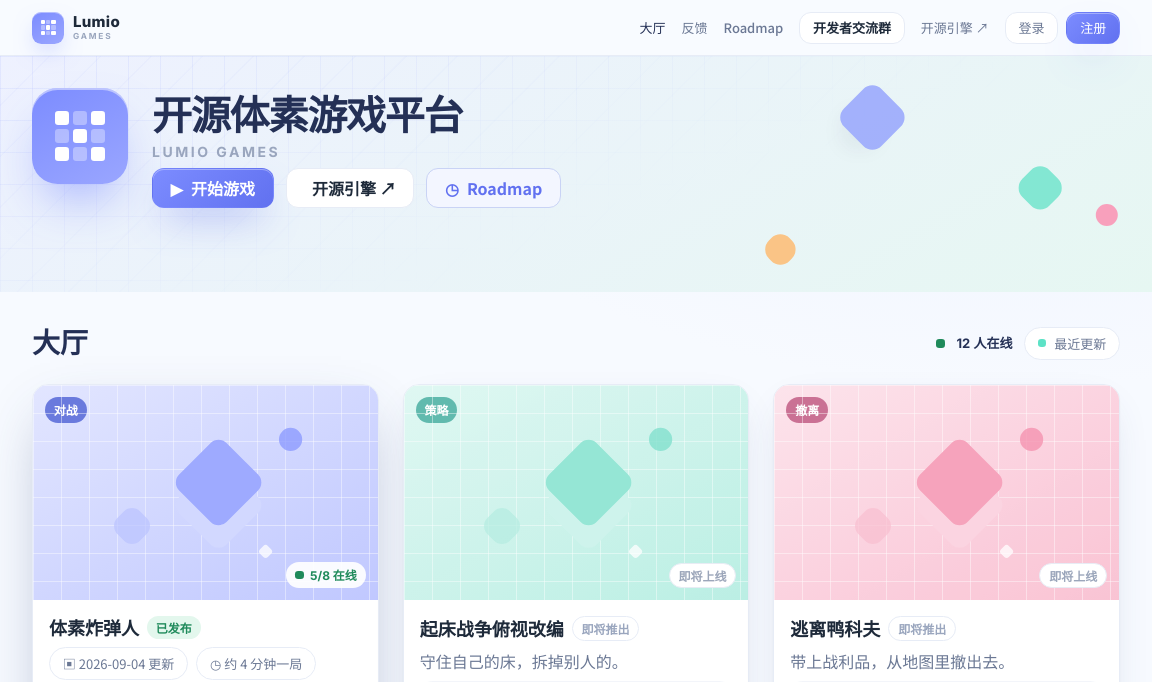
opens and closes the developer community dialog
The image size is (1152, 682).
Click the button "开发者交流群" at (852, 28), box [799,12,905,44]
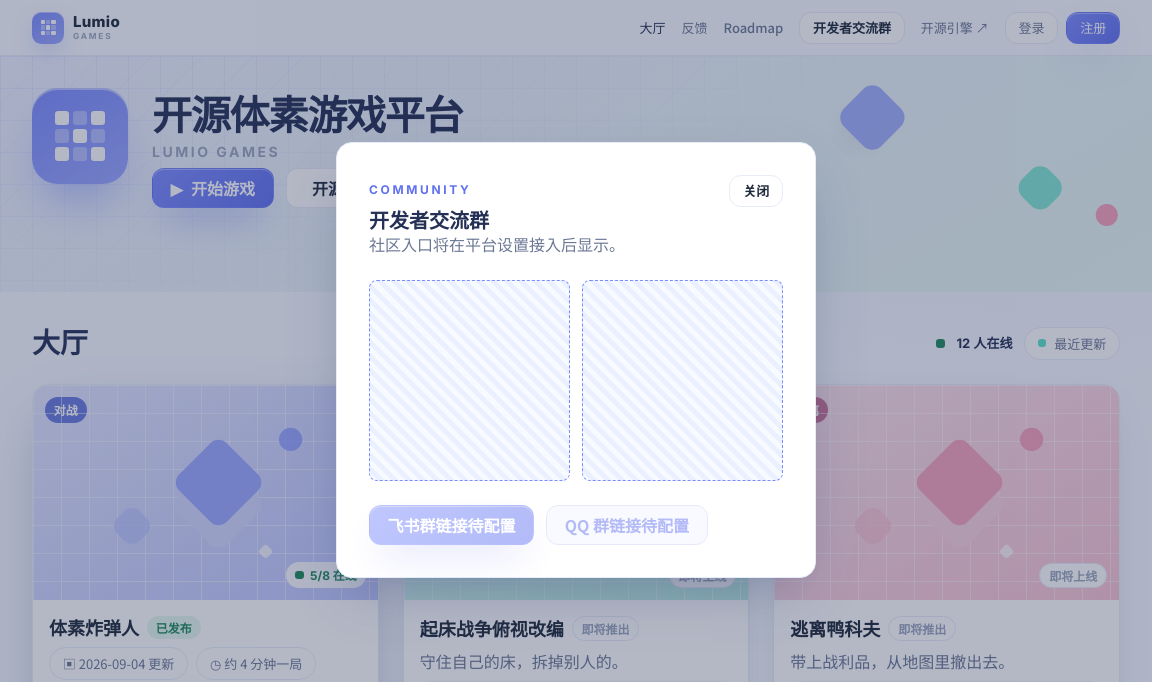
Now the dialog "开发者交流群" is shown, box [336,142,816,578]
Click the button "关闭" at (756, 191), box [729,175,783,207]
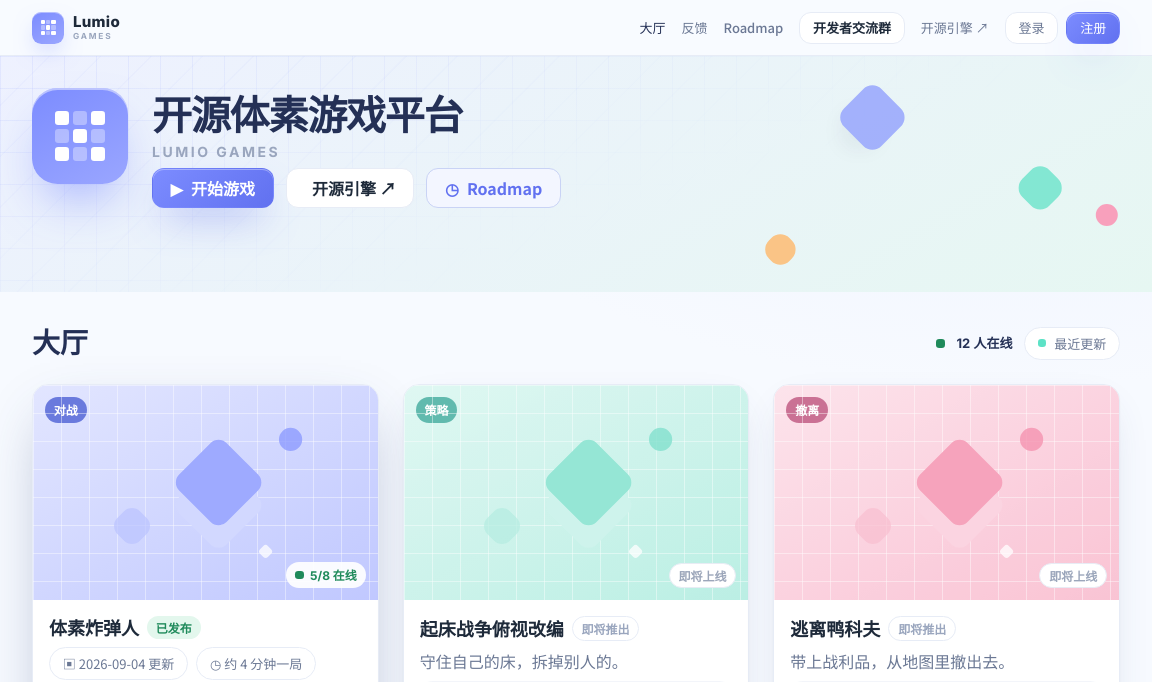
Now the dialog is gone
